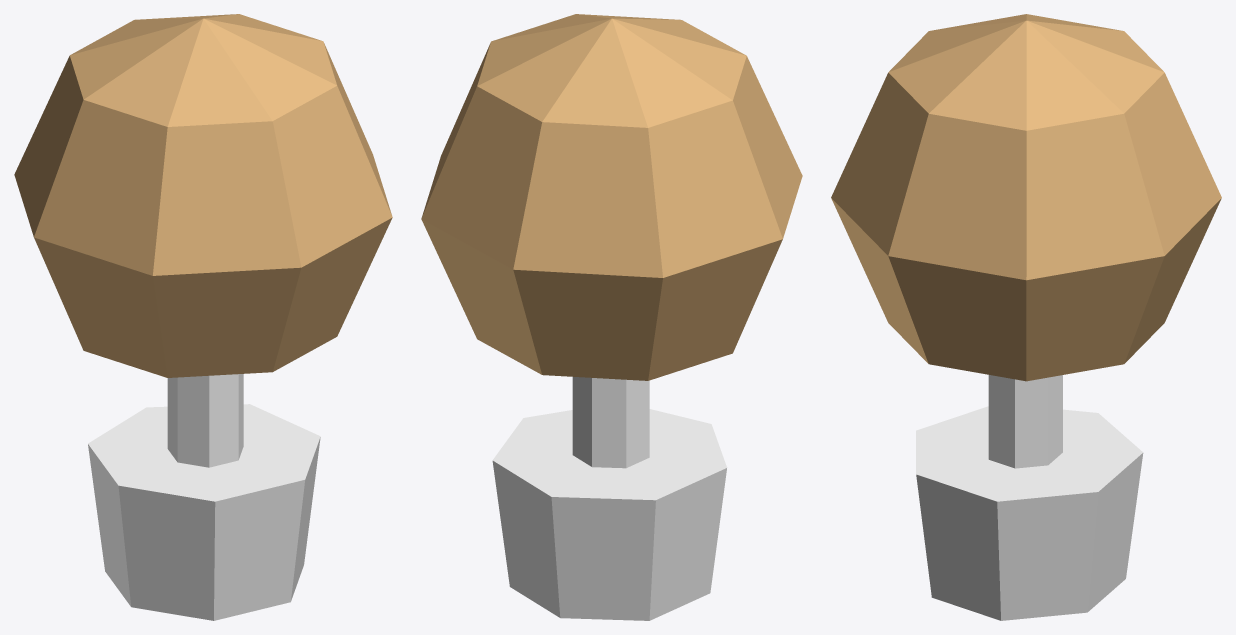
File: Lamp.fbx
3 views of the same model, side by side, from view 1: azimuth 30°, elevation 25°; view 2: azimuth 150°, elevation 25°; view 3: azimuth 270°, elevation 25° (orthographic).
Parts seen in each view (by area): view 1: Lamp; view 2: Lamp; view 3: Lamp.
Boxes of the visible parts, x1,y1,x2,y2 form: Lamp: [14, 14, 392, 620]; Lamp: [421, 14, 802, 620]; Lamp: [831, 14, 1221, 620].
Bounding box in the file's own units: 100 × 157 × 100.
